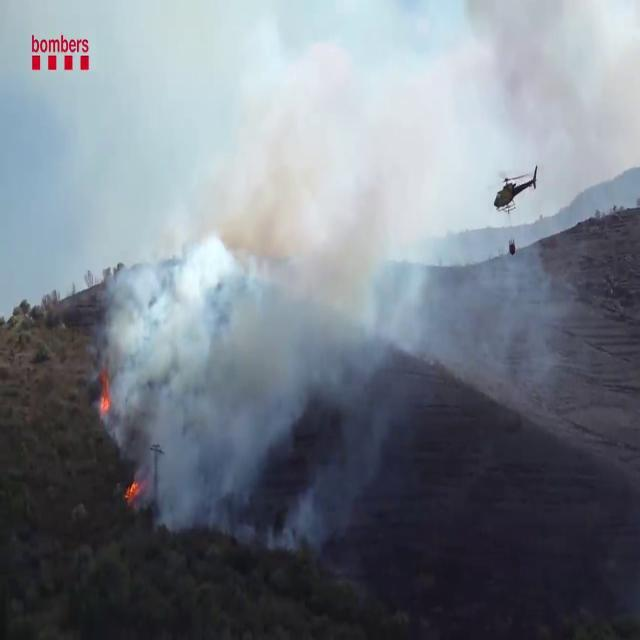Fire: (96, 363, 114, 420)
Smoke: (101, 24, 574, 564)
